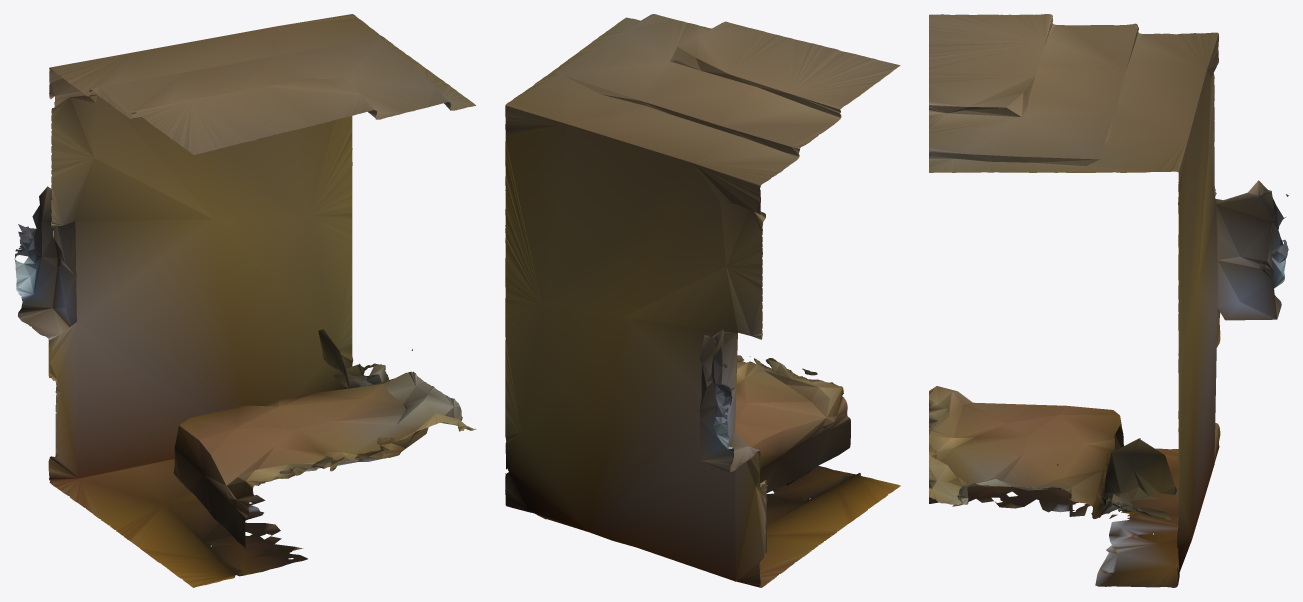
The model's file is coarse.glb.
3 views of the same model, side by side, from view 1: azimuth 30°, elevation 25°; view 2: azimuth 150°, elevation 25°; view 3: azimuth 270°, elevation 25° (orthographic). The views are drawn at different scales.
Size of the model in its own units: 1.92 by 2.84 by 2.11.
